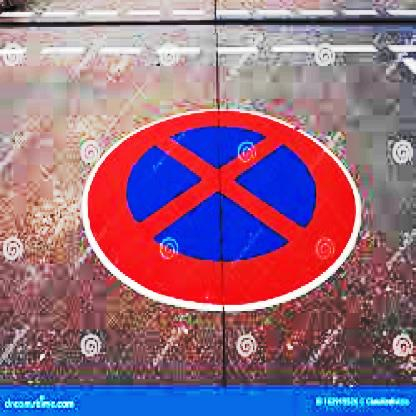No stopping: (80, 104, 367, 302)
